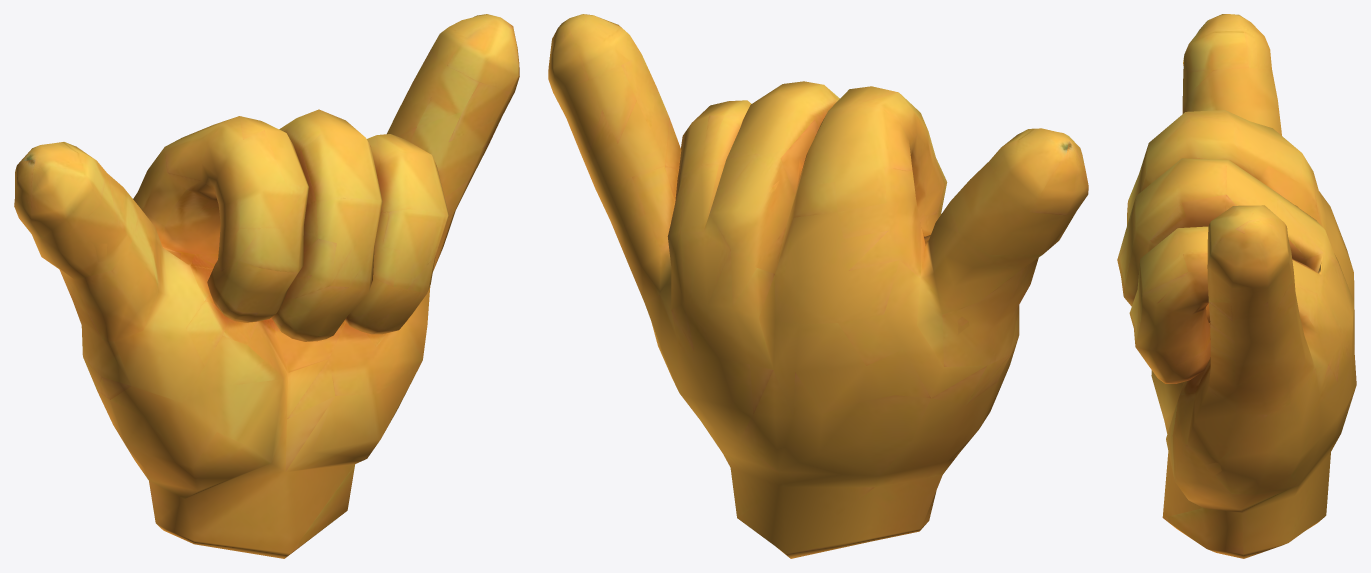
Rendered from art_shaka.glb.
3 renders of one model, left to right at view 1: azimuth 30°, elevation 25°; view 2: azimuth 150°, elevation 25°; view 3: azimuth 270°, elevation 25°, orthographic. The views are drawn at different scales.
Bounding box in the file's own units: 1 × 0.873 × 0.4375.
Materials: 1 (1 with a texture image).
